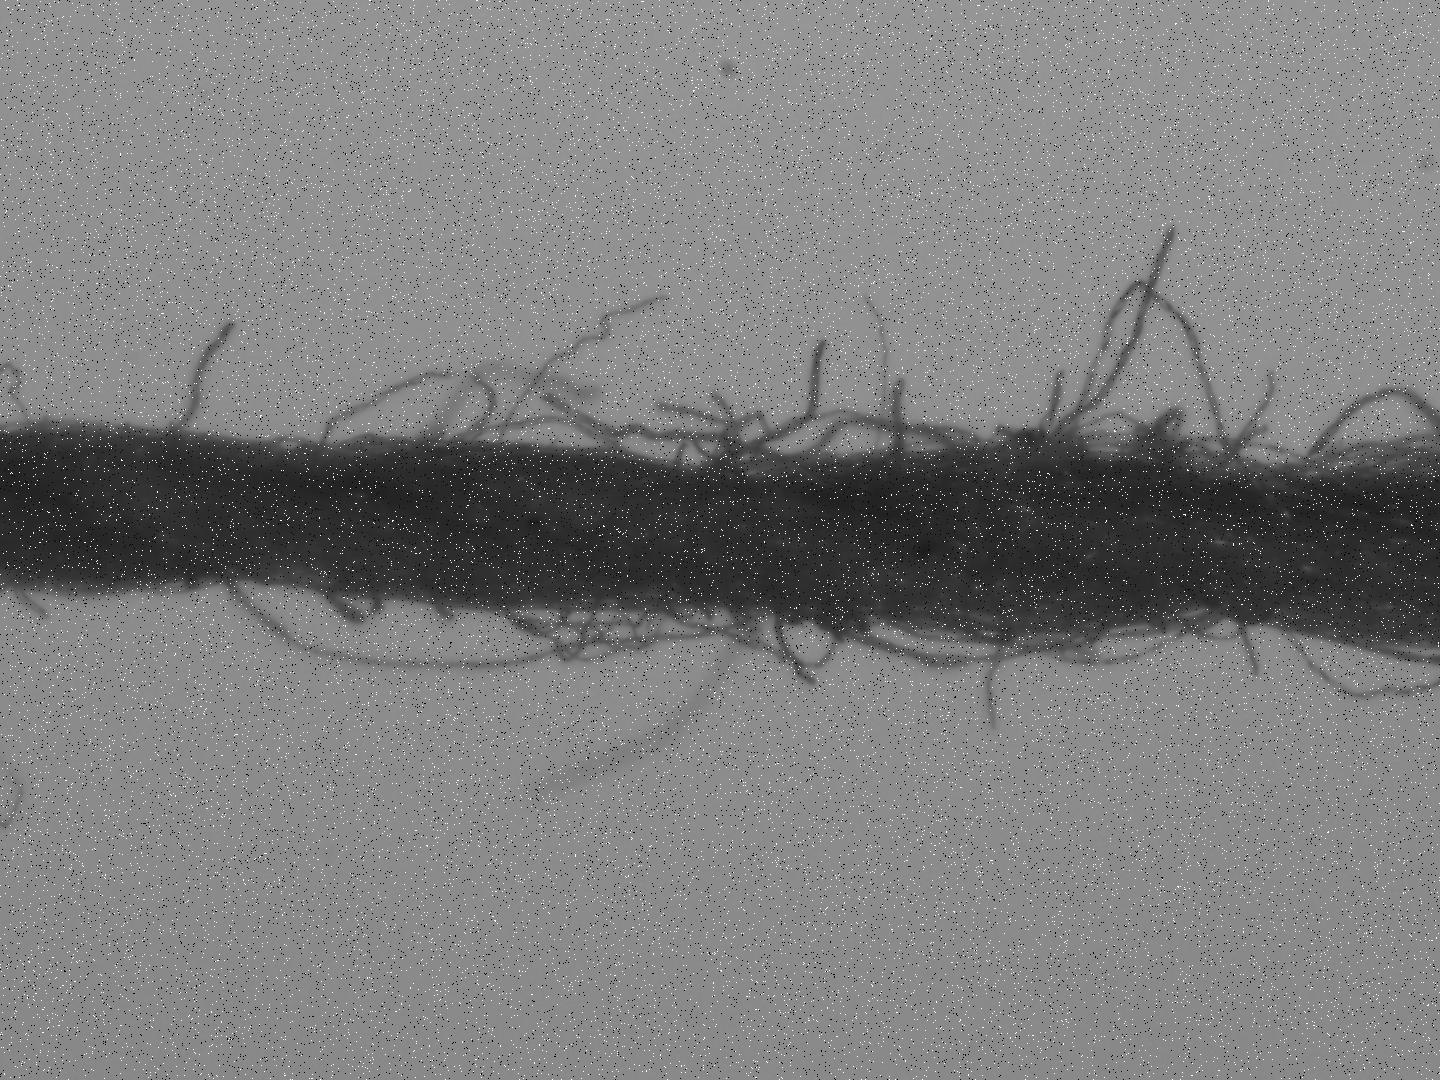loop_fiber: (730, 416, 957, 482), (1290, 391, 1437, 479), (1001, 609, 1200, 666), (825, 621, 1040, 665), (448, 417, 617, 455), (1056, 416, 1186, 464), (510, 604, 658, 636), (776, 611, 839, 675), (1169, 600, 1244, 646), (265, 436, 312, 456)
protruding_fiber: (1045, 226, 1179, 447), (317, 365, 454, 454), (162, 321, 232, 442), (449, 370, 497, 448), (983, 626, 1010, 732), (889, 372, 907, 467)
